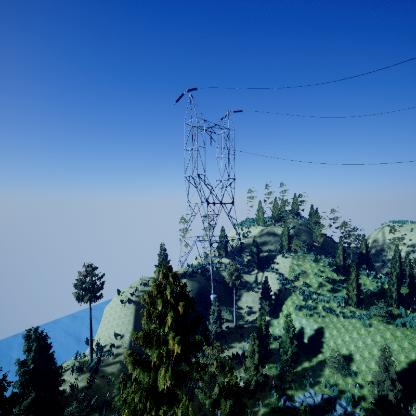tower: (171, 84, 258, 305)
